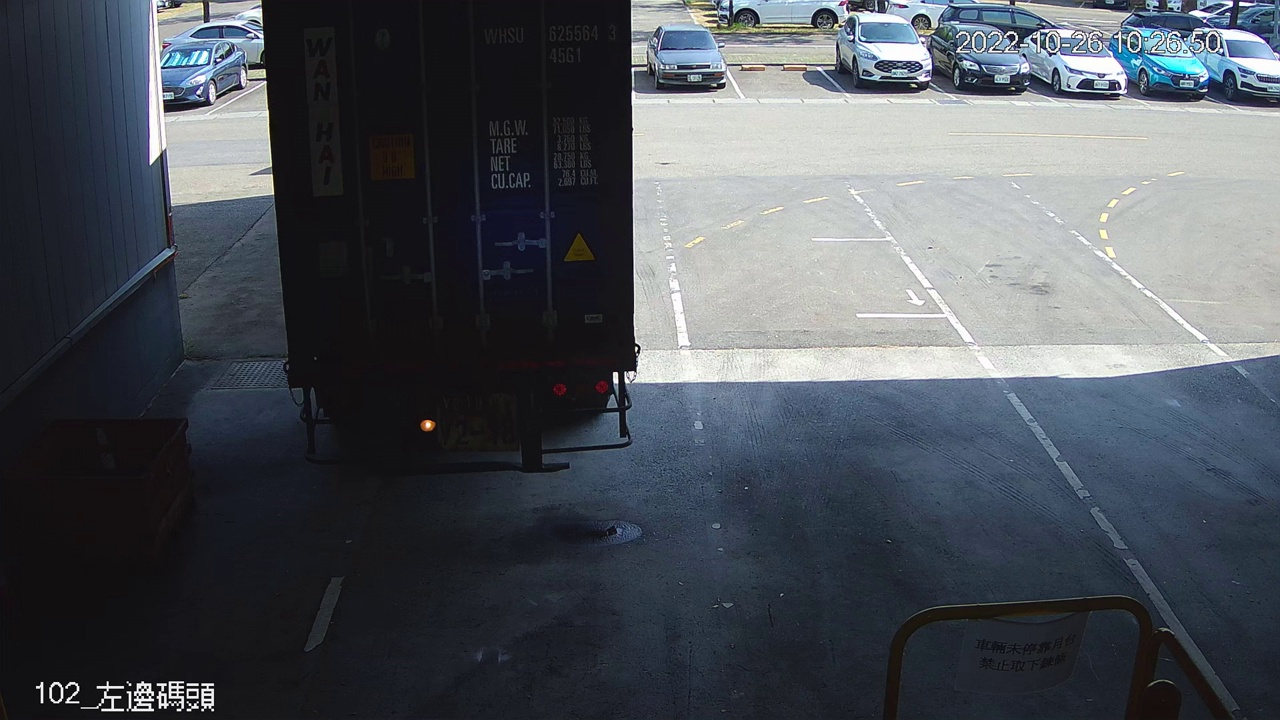container: (478, 16, 622, 70)
